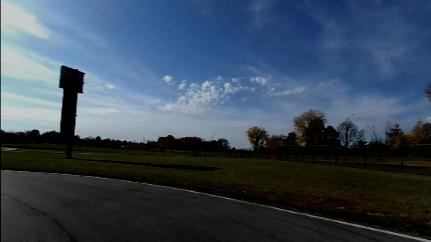Grass: (0, 152, 430, 236)
Lane: (0, 171, 420, 241)
